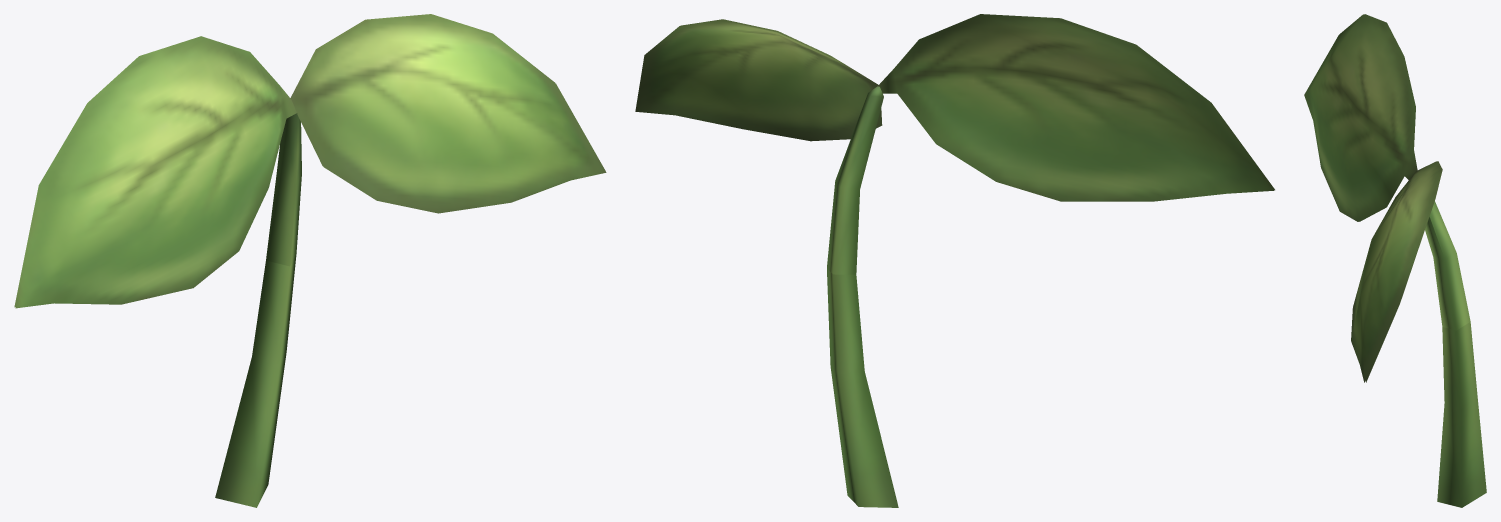
Rendered from Headwear_2600042.fbx.
The picture shows the model from 3 angles, left to right: view 1: azimuth 30°, elevation 25°; view 2: azimuth 150°, elevation 25°; view 3: azimuth 270°, elevation 25°; orthographic projection. The views are drawn at different scales.
Visible parts, largest first — view 1: Headwear_2600042; view 2: Headwear_2600042; view 3: Headwear_2600042.
Part boxes in pixels (x1=…): Headwear_2600042: x1=14, y1=14, x2=606, y2=507; Headwear_2600042: x1=635, y1=14, x2=1274, y2=507; Headwear_2600042: x1=1304, y1=14, x2=1486, y2=507.
Bounding box in the file's own units: 34.86 × 27.08 × 10.69.
